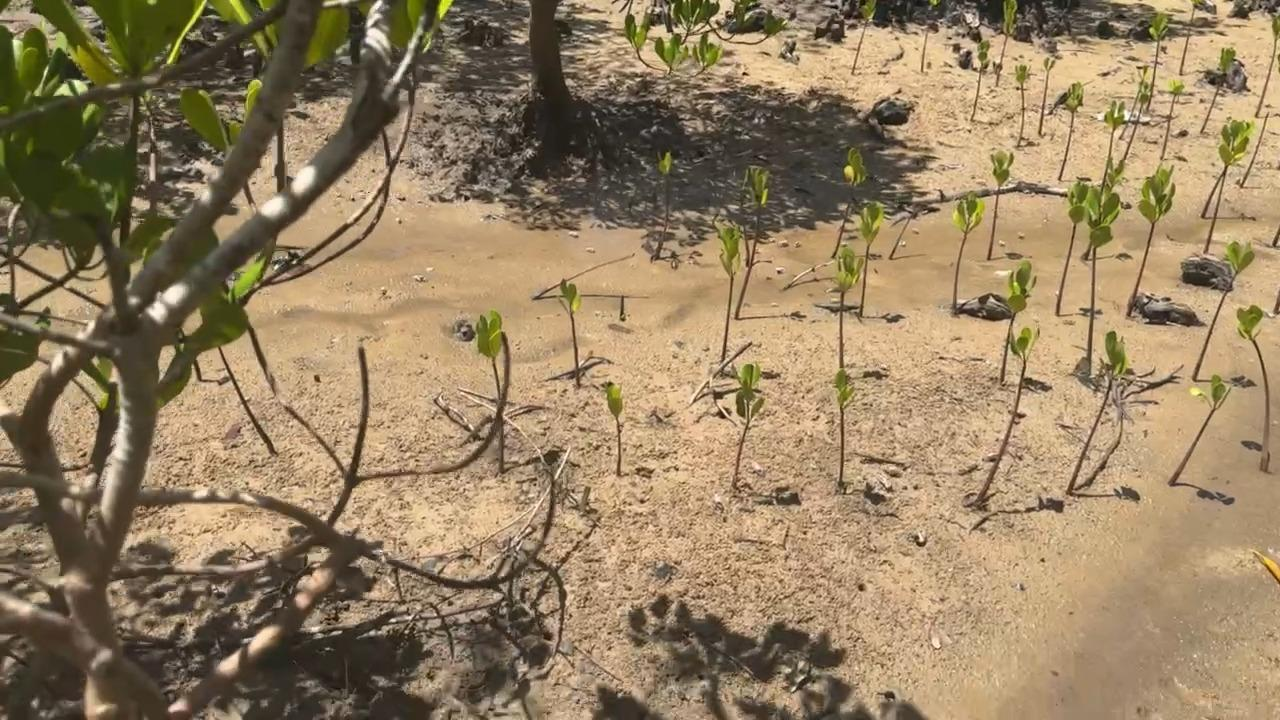Tree: (976, 326, 1041, 503), (1065, 330, 1127, 495), (1191, 240, 1254, 382), (1127, 165, 1177, 317), (1168, 375, 1230, 486), (1204, 118, 1252, 254), (1086, 185, 1120, 363), (1236, 305, 1272, 472), (734, 164, 768, 321), (1200, 120, 1252, 220), (826, 242, 864, 369), (477, 311, 506, 473), (1000, 259, 1038, 381), (1055, 180, 1089, 316), (1082, 155, 1125, 261), (730, 362, 762, 488), (951, 191, 984, 309), (833, 146, 866, 258), (716, 225, 739, 361), (987, 147, 1014, 258), (1201, 46, 1235, 131), (556, 278, 581, 383), (1059, 81, 1085, 180), (1117, 61, 1150, 139), (859, 201, 881, 316), (1098, 100, 1125, 193), (1255, 20, 1280, 116), (833, 369, 852, 485), (1241, 111, 1270, 187), (1148, 16, 1169, 110), (851, 0, 877, 75), (1160, 79, 1184, 160), (654, 151, 671, 258), (1127, 85, 1152, 155), (997, 0, 1017, 84), (605, 381, 622, 477), (970, 40, 989, 121), (890, 209, 917, 259), (921, 0, 939, 72), (1039, 57, 1055, 133), (1180, 4, 1196, 73), (1014, 64, 1027, 148), (1273, 221, 1280, 245), (1275, 291, 1280, 314)
